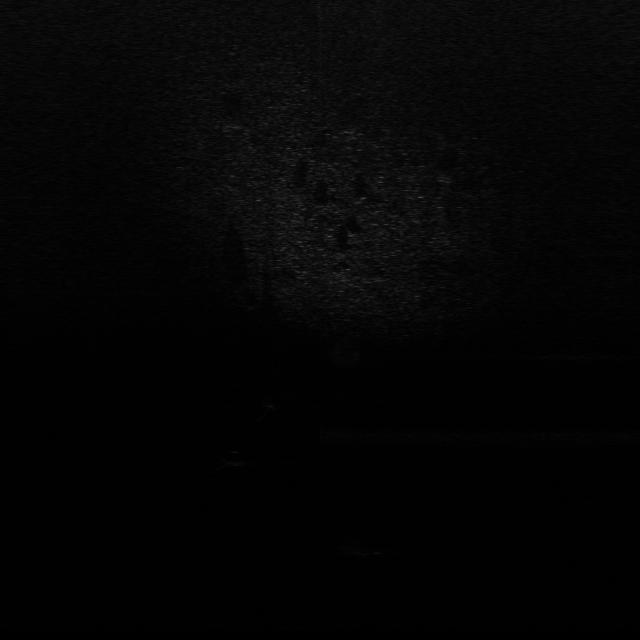ball: (221, 447, 248, 469)
circle cage: (331, 533, 402, 558)
human body: (250, 393, 280, 422)
